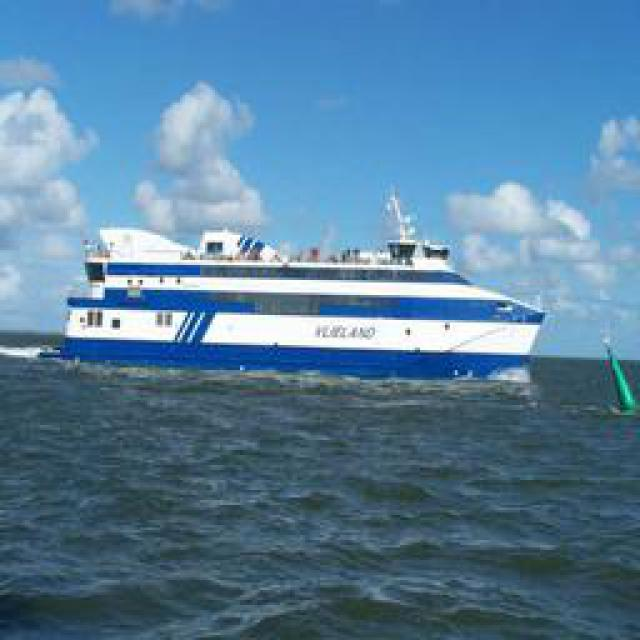Ship: (65, 211, 548, 382)
